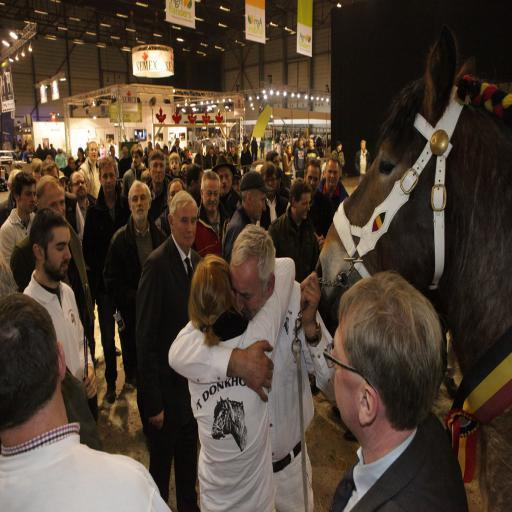horse: (314, 18, 512, 445)
